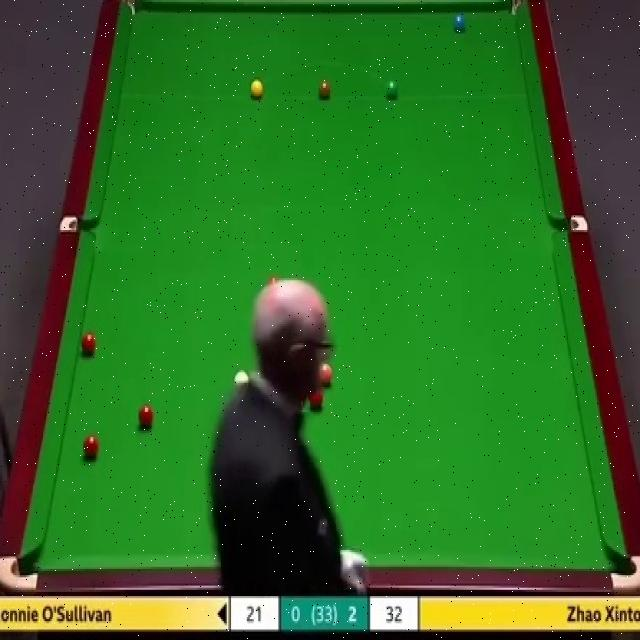blue-ball: (452, 8, 468, 34)
brown-ball: (318, 80, 332, 102)
green-ball: (385, 80, 399, 102)
pink-ball: (314, 362, 333, 388)
red-ball: (82, 433, 100, 462), (137, 405, 154, 433), (307, 386, 325, 409), (80, 332, 96, 357)
white-ball: (232, 370, 252, 389)
yellow-ball: (250, 79, 264, 101)
